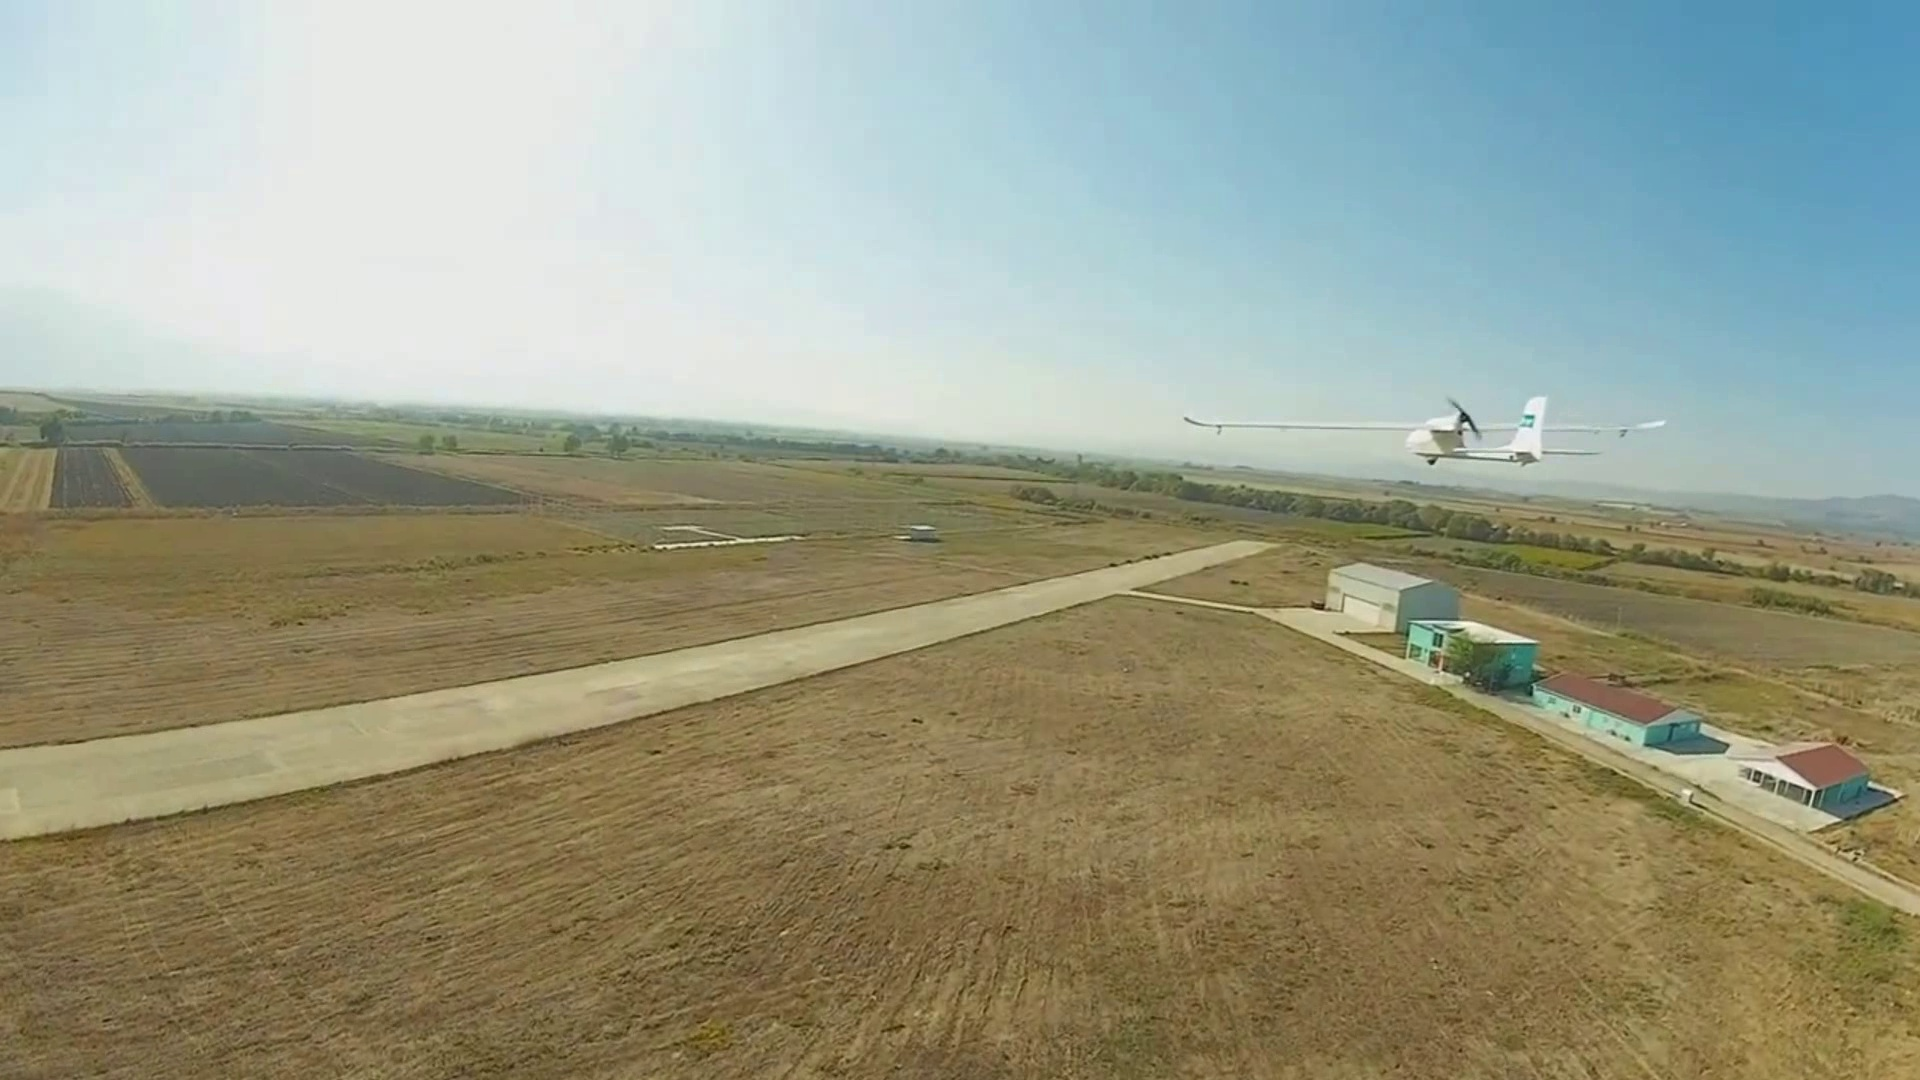airplane: (1179, 394, 1683, 469), (1400, 394, 1669, 468)
